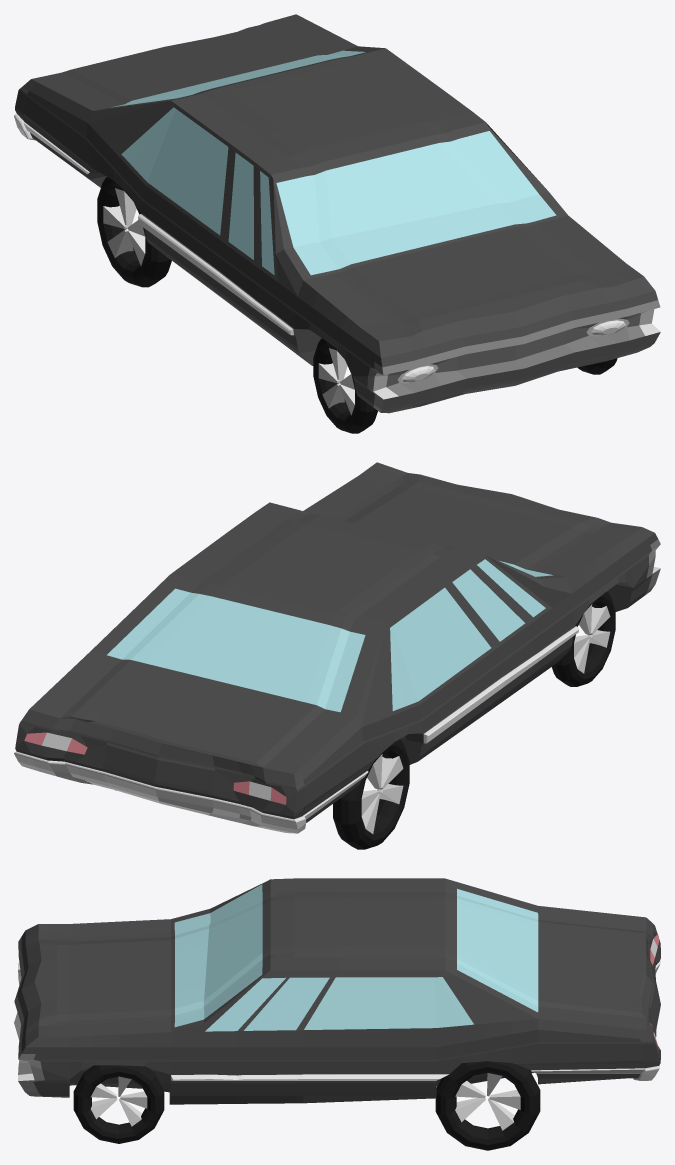
Rendered from arabaimpala.fbx.
The picture shows the model from 3 angles, top to bottom: view 1: azimuth 30°, elevation 25°; view 2: azimuth 150°, elevation 25°; view 3: azimuth 270°, elevation 25°; orthographic projection. The views are drawn at different scales.
Parts seen in each view (by area): view 1: Cube, Torus.003, Torus.004; view 2: Cube, Torus.003, Torus.004; view 3: Cube, Torus.002, Torus.001.
Boxes of the visible parts, x1,y1,x2,y2 form: Cube: (14,14,660,413); Torus.003: (97,177,171,287); Torus.004: (313,338,377,433); Cube: (14,462,660,833); Torus.003: (333,739,409,849); Torus.004: (552,591,615,686); Cube: (14,878,660,1104); Torus.002: (435,1061,540,1150); Torus.001: (73,1065,164,1143).
Size of the model in its own units: 569 by 373 by 1258.
